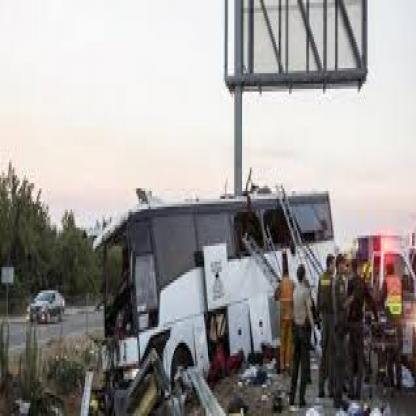accident: (90, 169, 337, 400)
